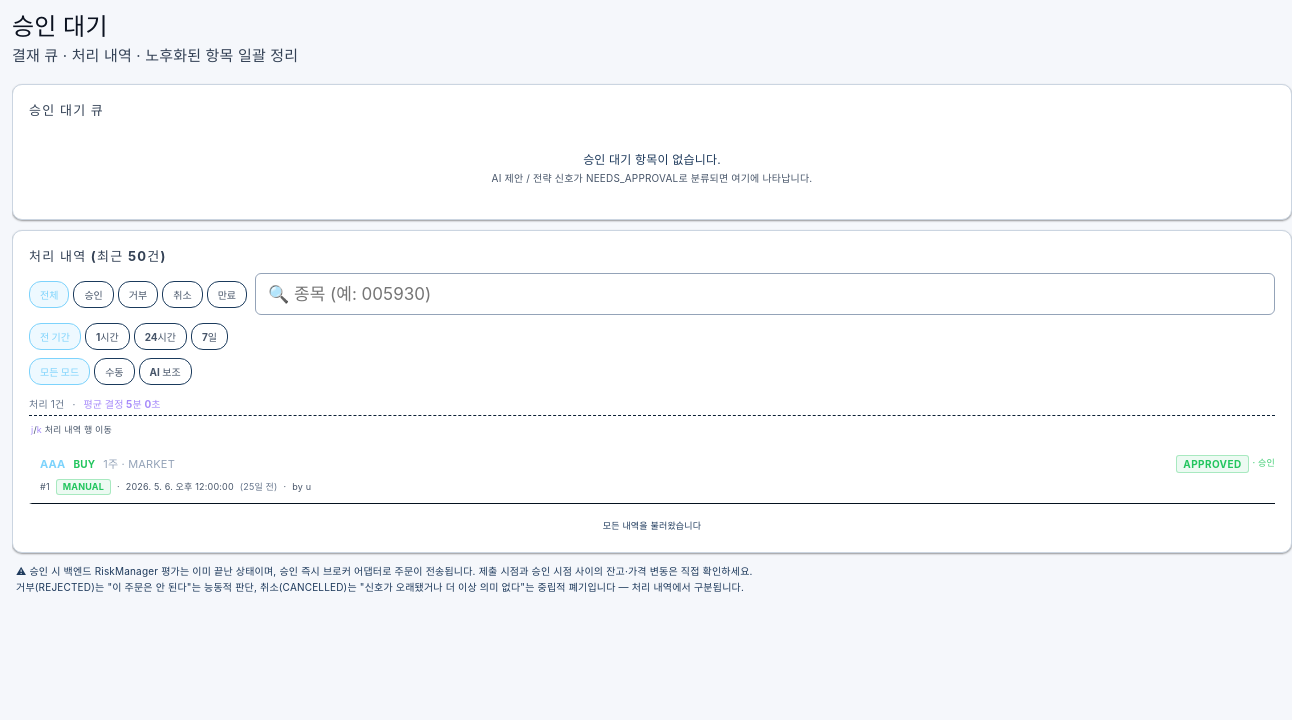
Test case: <Approvals> 처리 내역 mode filter (092) › shows the filter-narrowed empty message when mode eliminates everything
Click the radio button labelled "AI 보조" at (165, 372), box [139,358,192,385]
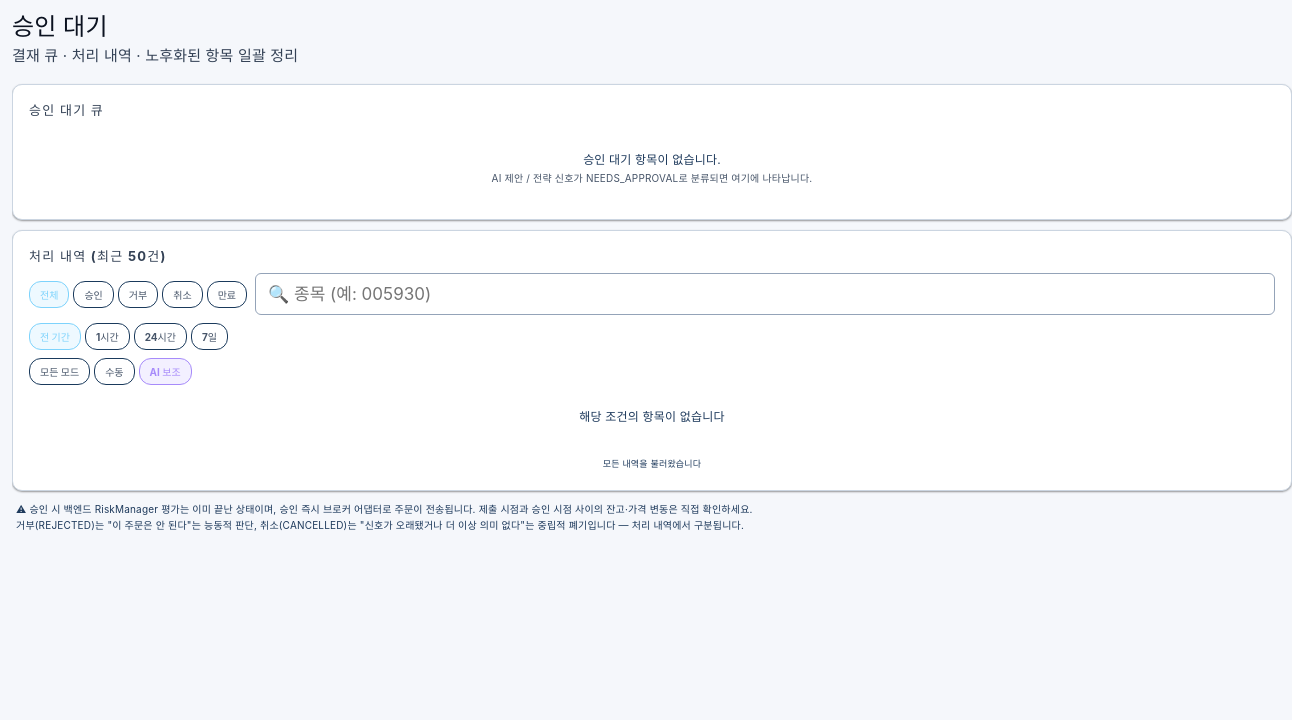
Expected: the text "해당 조건의 항목이 없습니다" is shown, [579,409,725,424]
